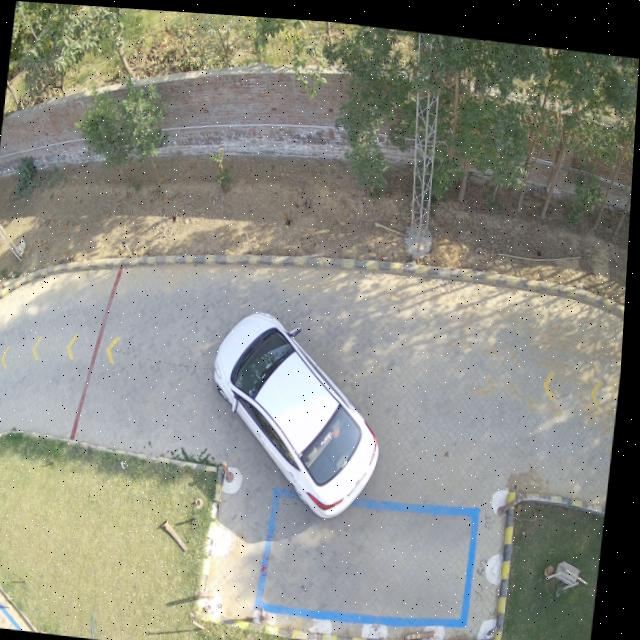car: (217, 309, 384, 514)
